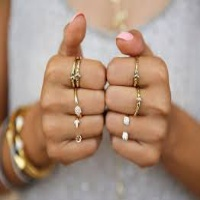ring: (104, 118, 165, 140), (66, 115, 105, 139)
